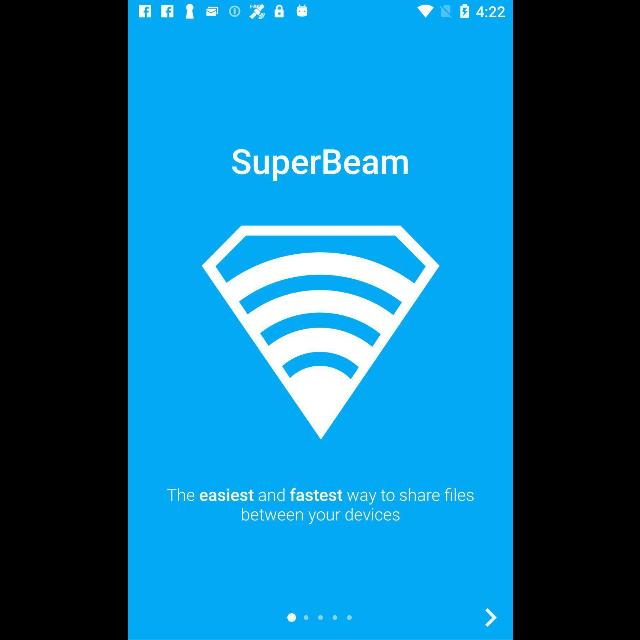icon: (482, 608, 496, 628)
image: (200, 225, 440, 440)
pageindicator: (286, 614, 352, 622)
text: (166, 488, 474, 524), (230, 150, 408, 182)
uppertaskbar: (128, 1, 512, 23)
